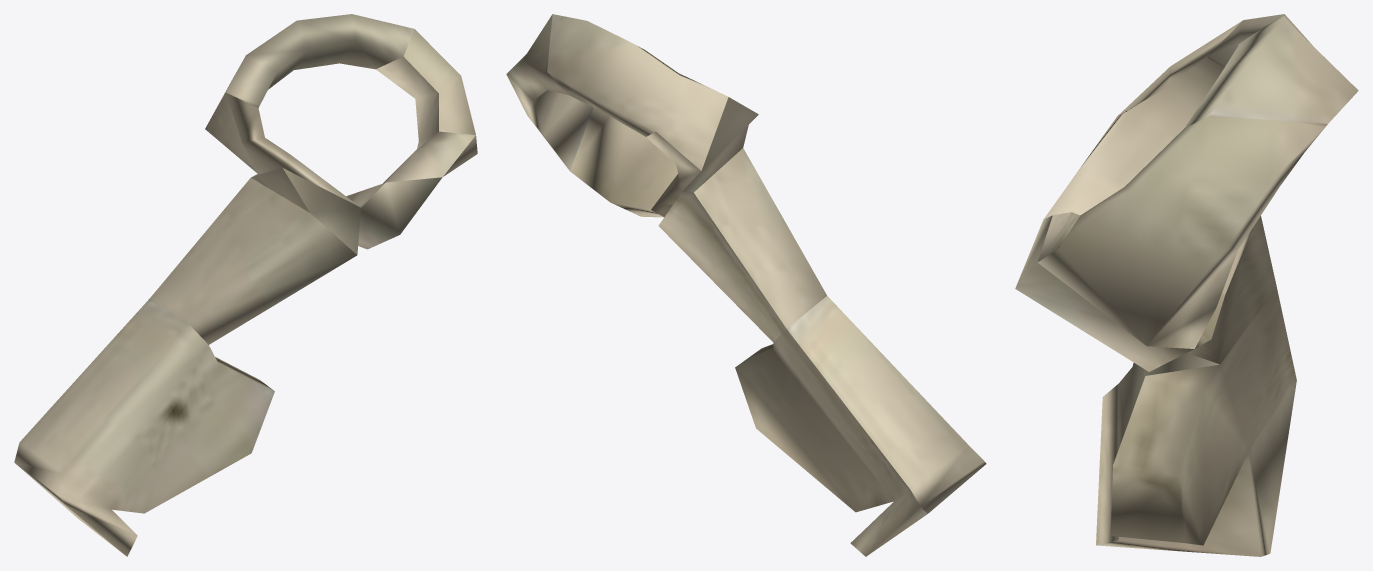
File: ceramic-key.glb
The picture shows the model from 3 angles, left to right: view 1: azimuth 30°, elevation 25°; view 2: azimuth 150°, elevation 25°; view 3: azimuth 270°, elevation 25°; orthographic projection. The views are drawn at different scales.
Parts seen in each view (by area): view 1: ceramic-key; view 2: ceramic-key; view 3: ceramic-key.
Part boxes in pixels (box(x1,y1,x2,y2)): ceramic-key: box(14, 14, 477, 556); ceramic-key: box(506, 14, 986, 556); ceramic-key: box(1015, 14, 1358, 556).
Bounding box in the file's own units: 0.1648 × 0.1631 × 0.0712.
1 material, 1 textured.
